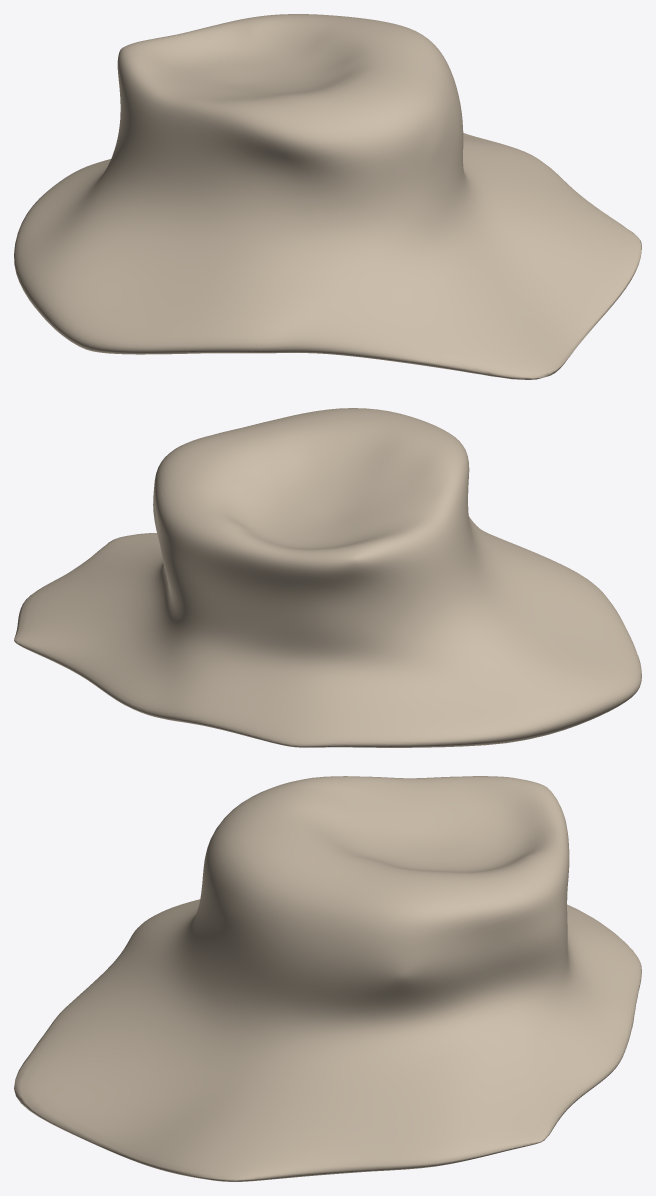
The model's file is petite_bougie.fbx.
3 views of the same model, one above another, from view 1: azimuth 30°, elevation 25°; view 2: azimuth 150°, elevation 25°; view 3: azimuth 270°, elevation 25° (orthographic). The views are drawn at different scales.
Parts seen in each view (by area): view 1: pCylinder6; view 2: pCylinder6; view 3: pCylinder6.
Boxes of the visible parts, box(x1,y1,x2,y2) form: pCylinder6: box(14, 14, 641, 379); pCylinder6: box(14, 408, 641, 747); pCylinder6: box(14, 776, 641, 1181).
Size of the model in its own units: 0.275 by 0.109 by 0.2533.
